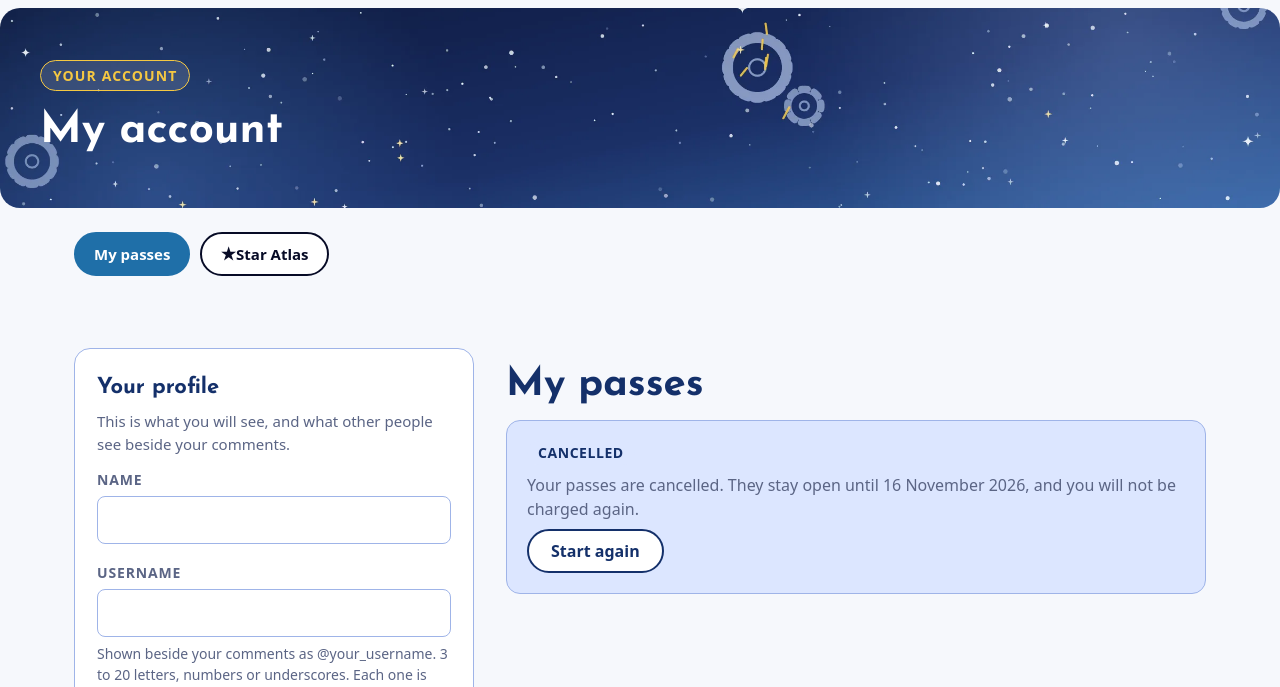
Test: someone who has cancelled but whose passes are still open › says so, with the date, and offers to start again (which takes the cancellation back)
Expected: the text "Cancelled" is shown, [527,441,635,465]
Expected: the text "Your passes are cancelled. They stay open until 16 November 2026, and you will not be charged again." is shown, [527,474,1176,520]
Click the button "Start again" at (595, 551), box [527,529,664,573]
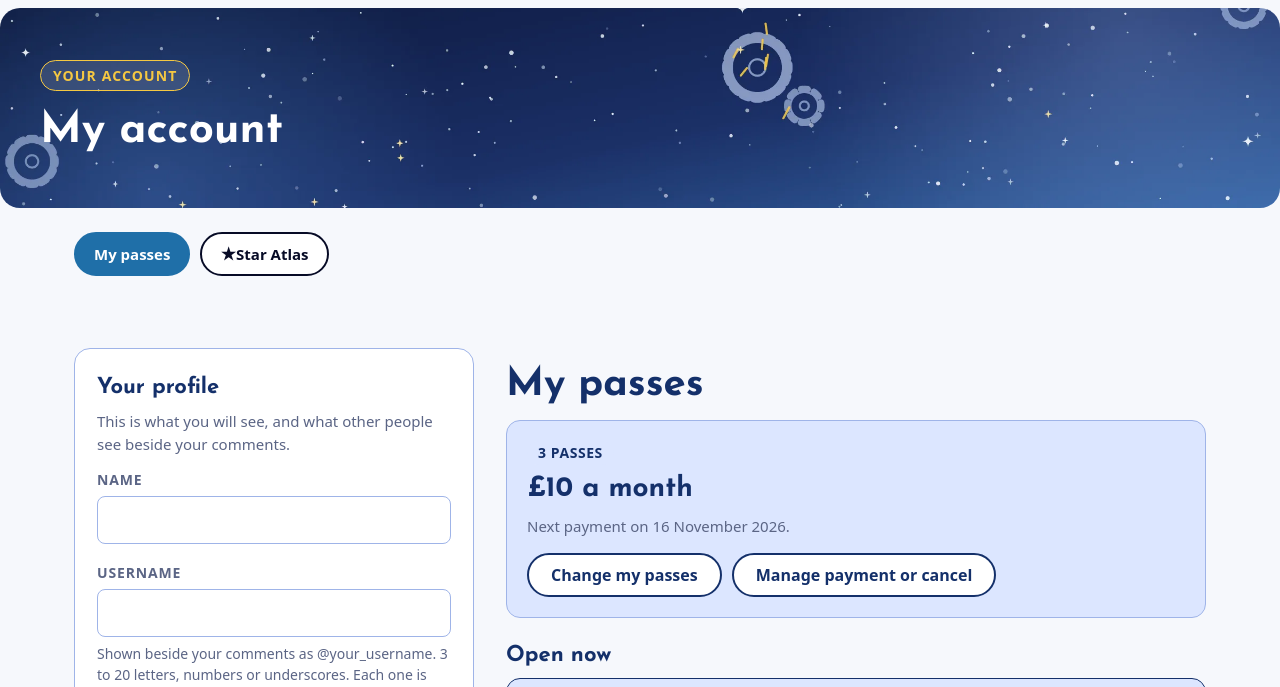
Expected: the heading "Open now" is shown, [506,644,611,667]
